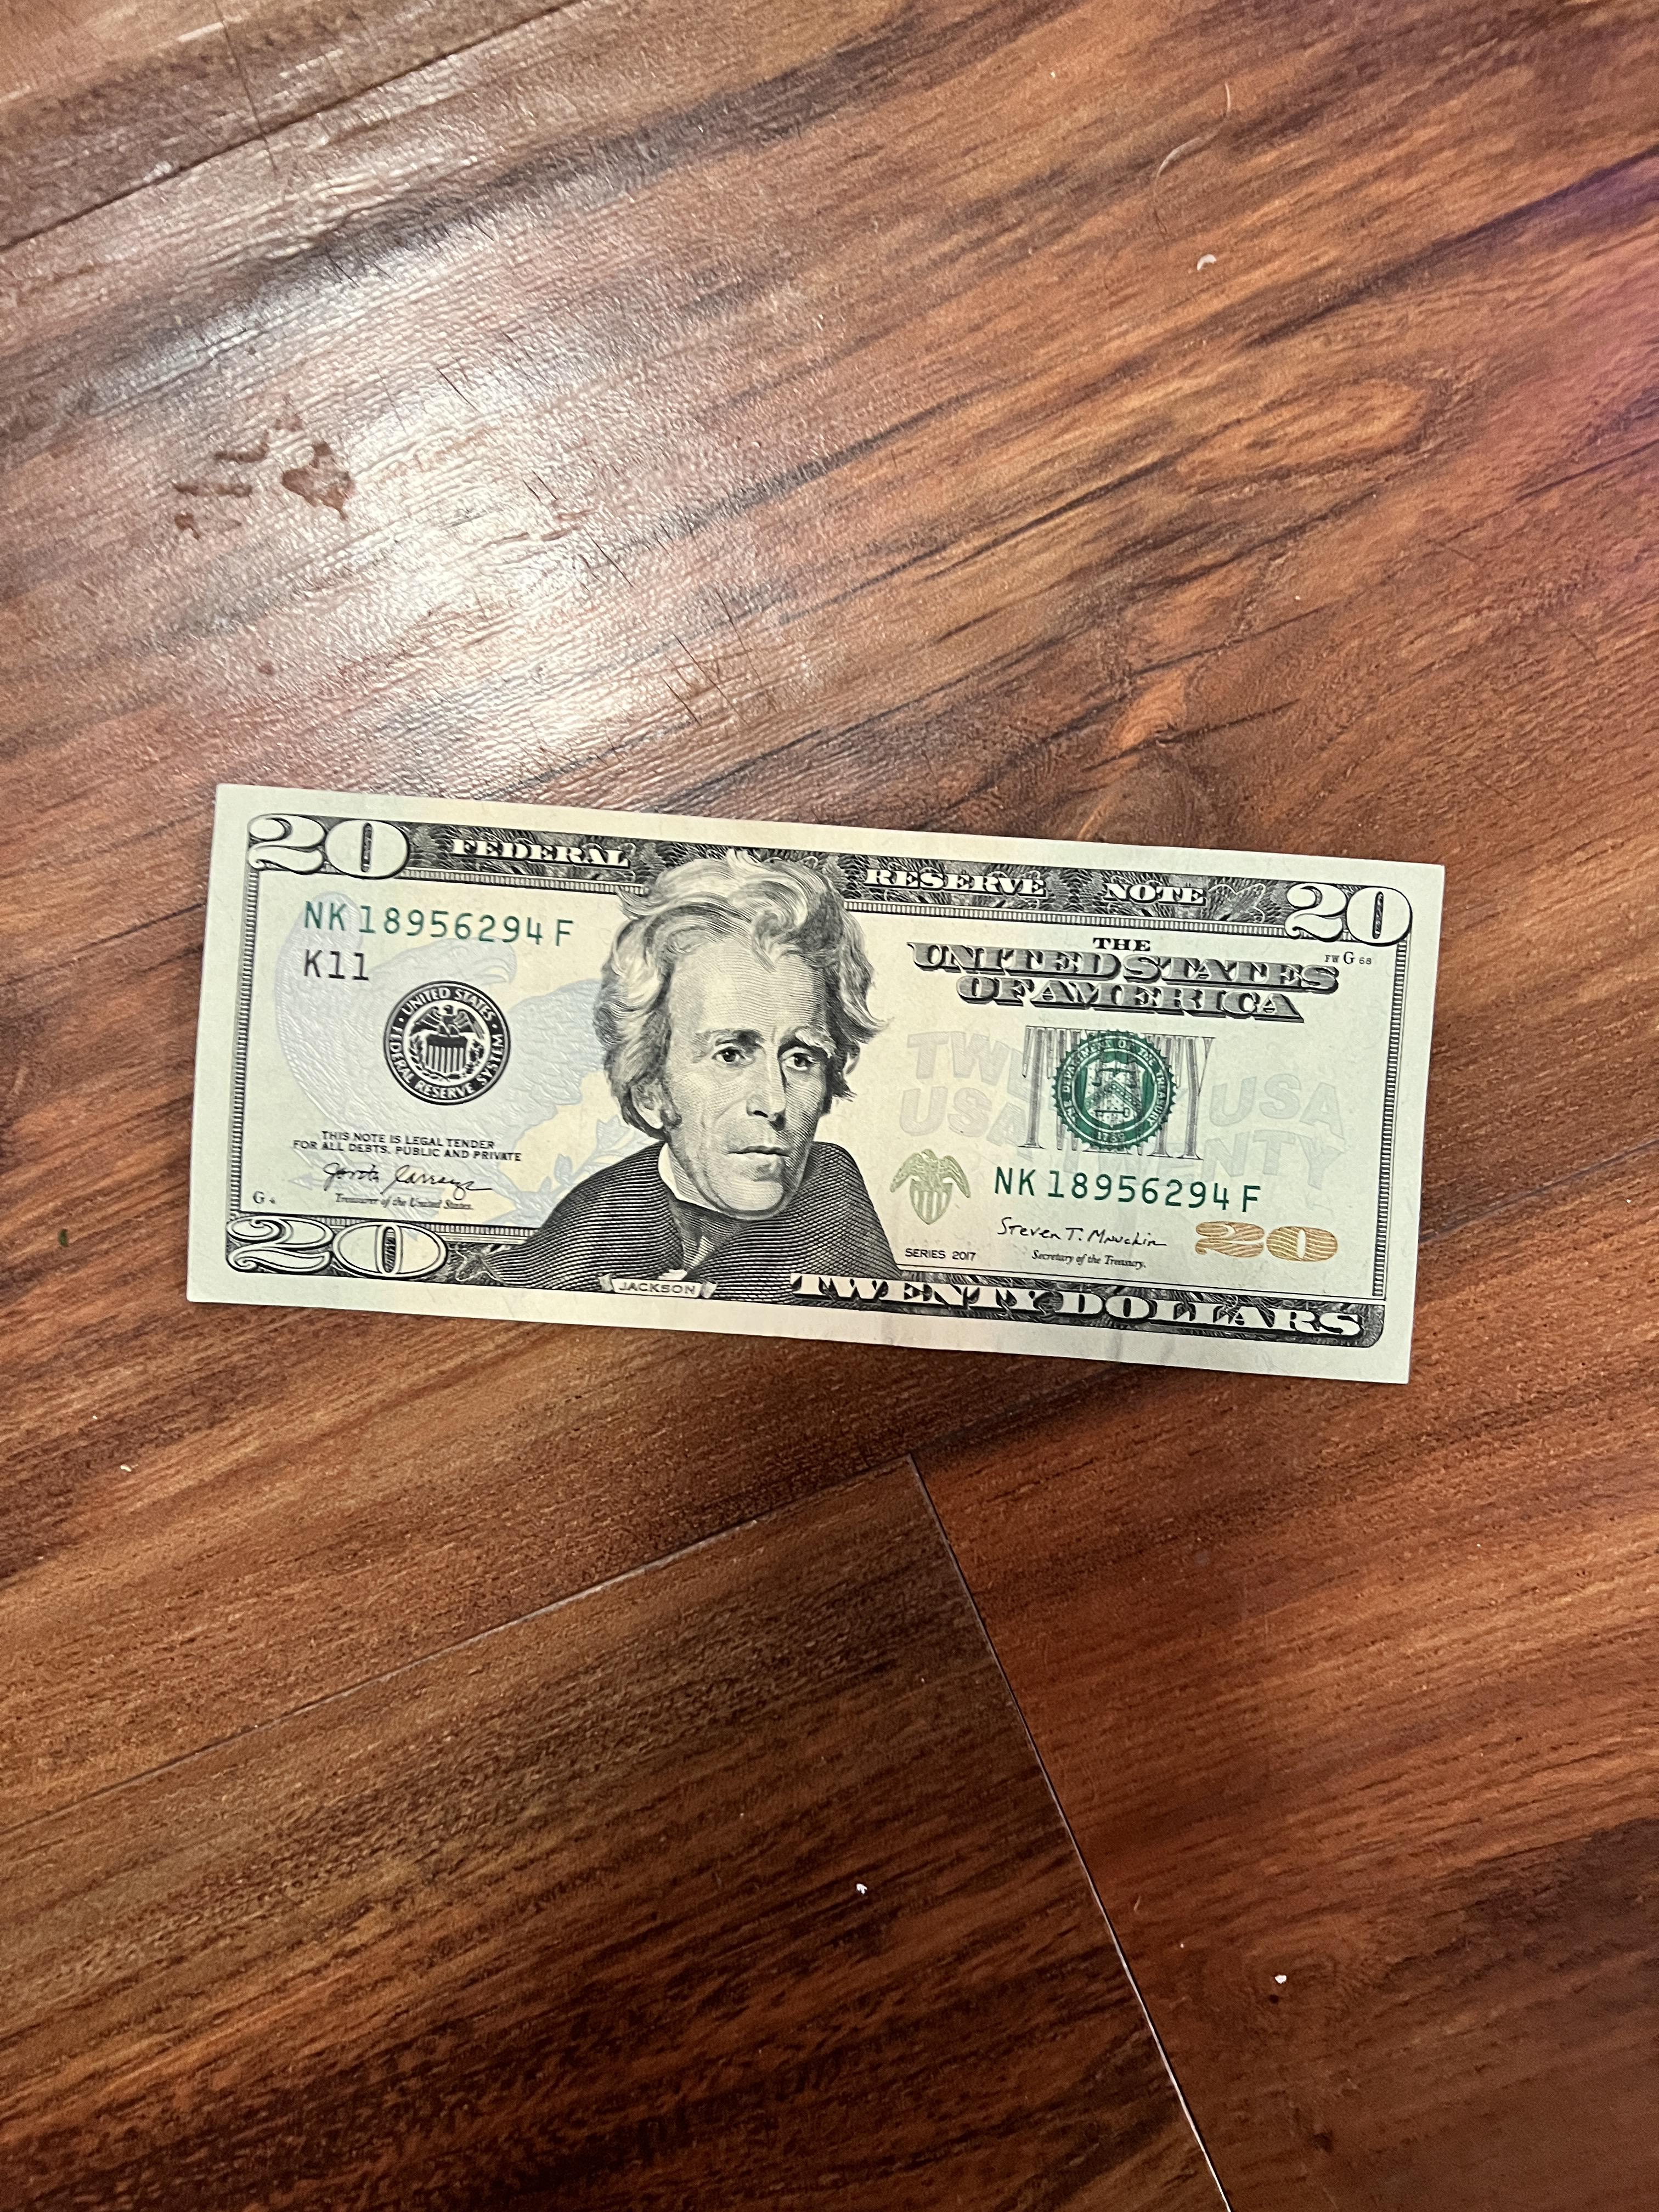TwentyBill: (183, 773, 1441, 1397)
